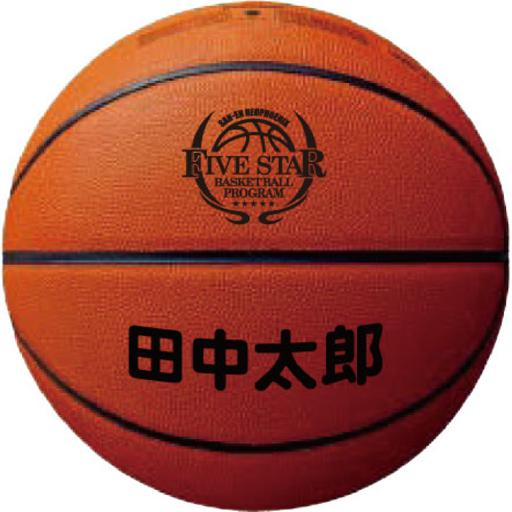ball: (3, 2, 508, 512)
